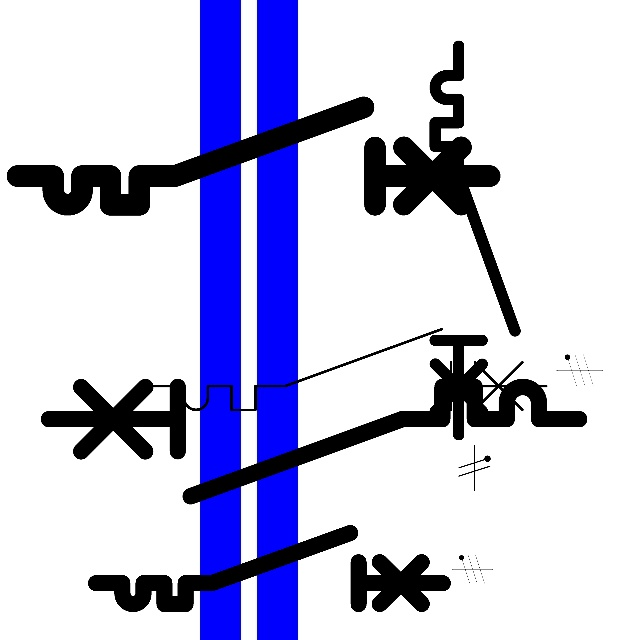interruptor_termomagnetico: (35, 373, 593, 509), (5, 95, 502, 217), (144, 319, 557, 420), (425, 36, 525, 444), (87, 524, 452, 613)
